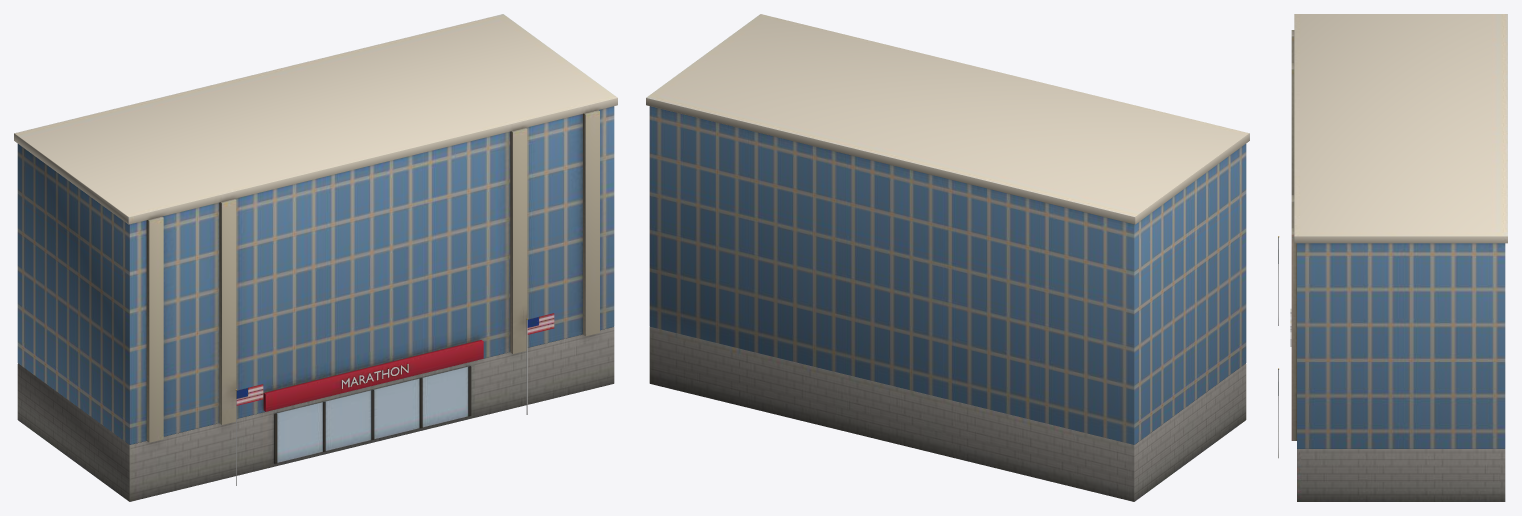
The model's file is marathon.glb.
The picture shows the model from 3 angles, left to right: view 1: azimuth 30°, elevation 25°; view 2: azimuth 150°, elevation 25°; view 3: azimuth 270°, elevation 25°; orthographic projection. The views are drawn at different scales.
Visible parts, largest first — view 1: marathon; view 2: marathon; view 3: marathon.
Boxes of the visible parts, <box> form: marathon: <box>14,14,617,501</box>; marathon: <box>646,14,1249,501</box>; marathon: <box>1278,14,1507,501</box>.
Bounding box in the file's own units: 40.4 × 22.6 × 17.65.
1 material, 1 textured.
